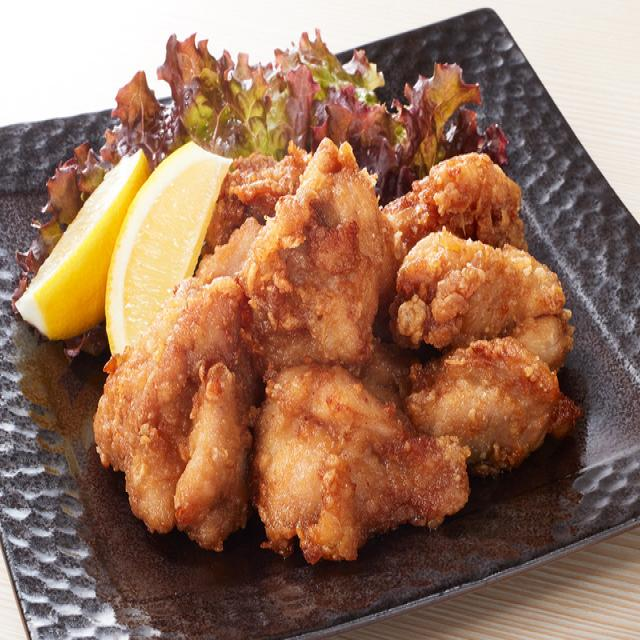Frango: (93, 143, 588, 565)
